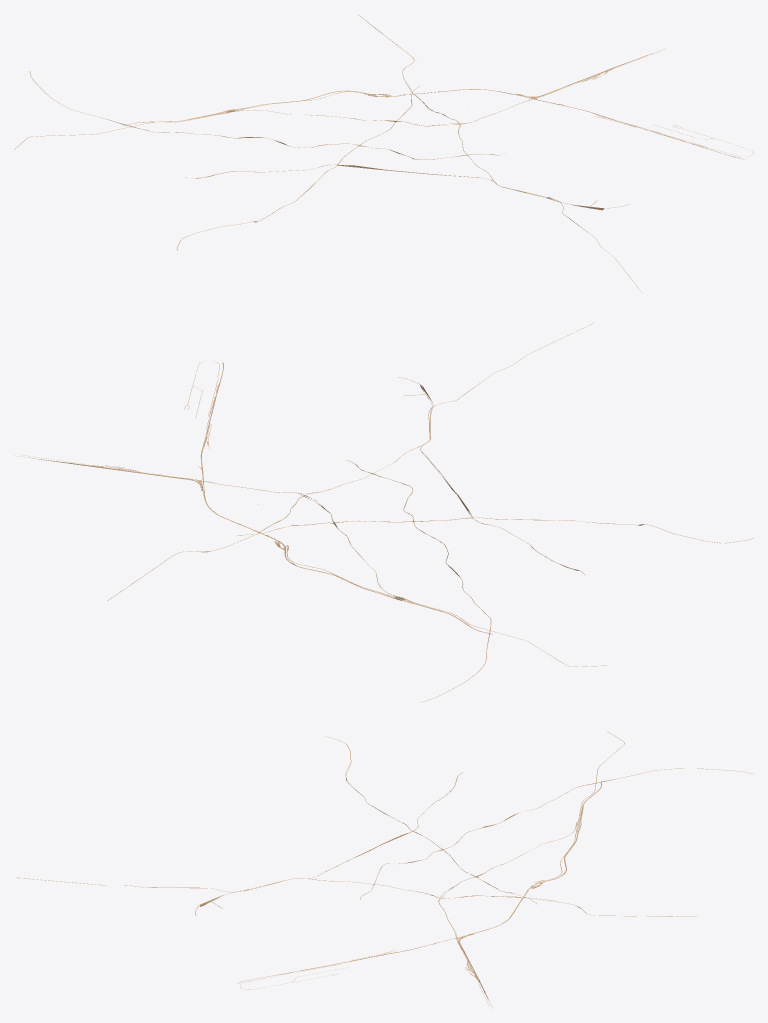
The model's file is rail.glb.
3 views of the same model, one above another, from view 1: azimuth 30°, elevation 25°; view 2: azimuth 150°, elevation 25°; view 3: azimuth 270°, elevation 25° (orthographic). The views are drawn at different scales.
Visible parts, largest first — view 1: rail; view 2: rail; view 3: rail.
Part boxes in pixels (x1,y1,x2,y2): rail: [14, 14, 753, 292]; rail: [14, 322, 753, 702]; rail: [16, 731, 753, 1008].
Bounding box in the file's own units: 13253 × 129 × 14932.
